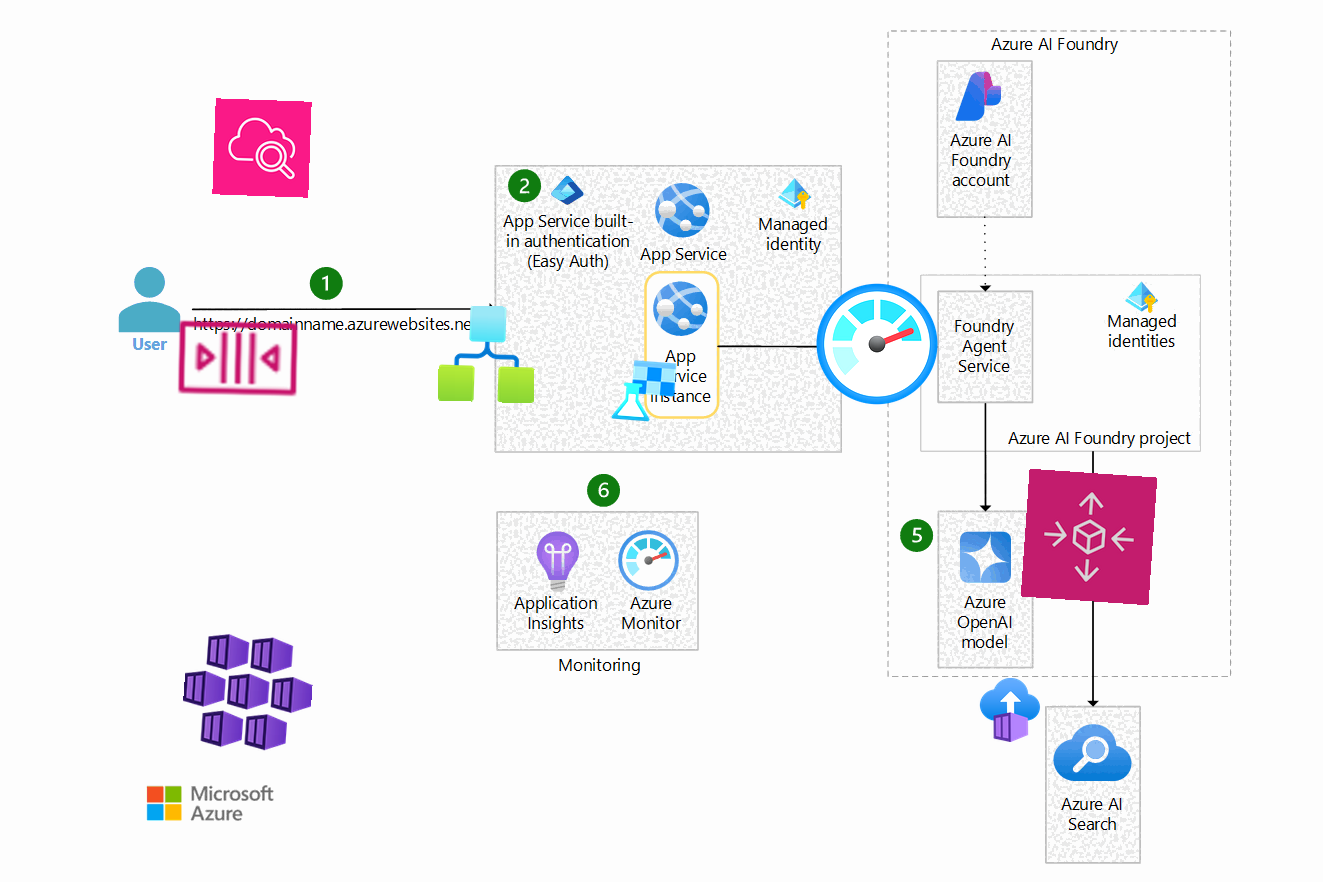aws_amazon_cloudwatch: (212, 98, 312, 198)
aws_auto_scaling: (1020, 468, 1158, 606)
aws_simple_queue_service_queue: (172, 291, 304, 423)
azure_container_instances: (977, 677, 1043, 743)
azure_kubernetes_services: (179, 622, 317, 760)
azure_logic_apps: (437, 304, 537, 404)
azure_machine_learning_studio_workspaces: (609, 356, 679, 426)
azure_monitor: (812, 279, 942, 409)
